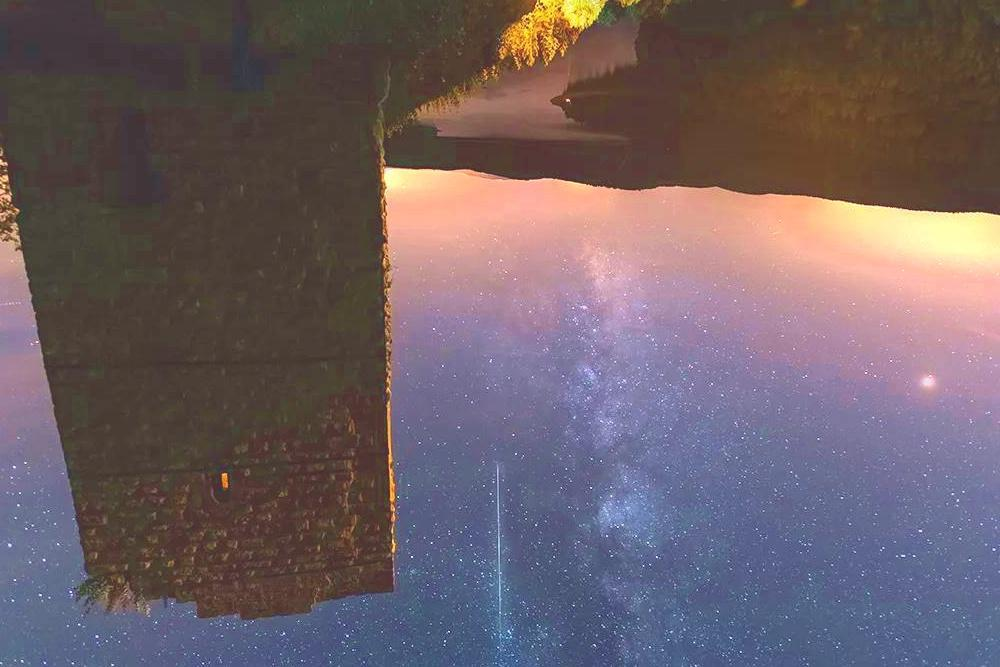meteorite: (480, 455, 517, 633)
